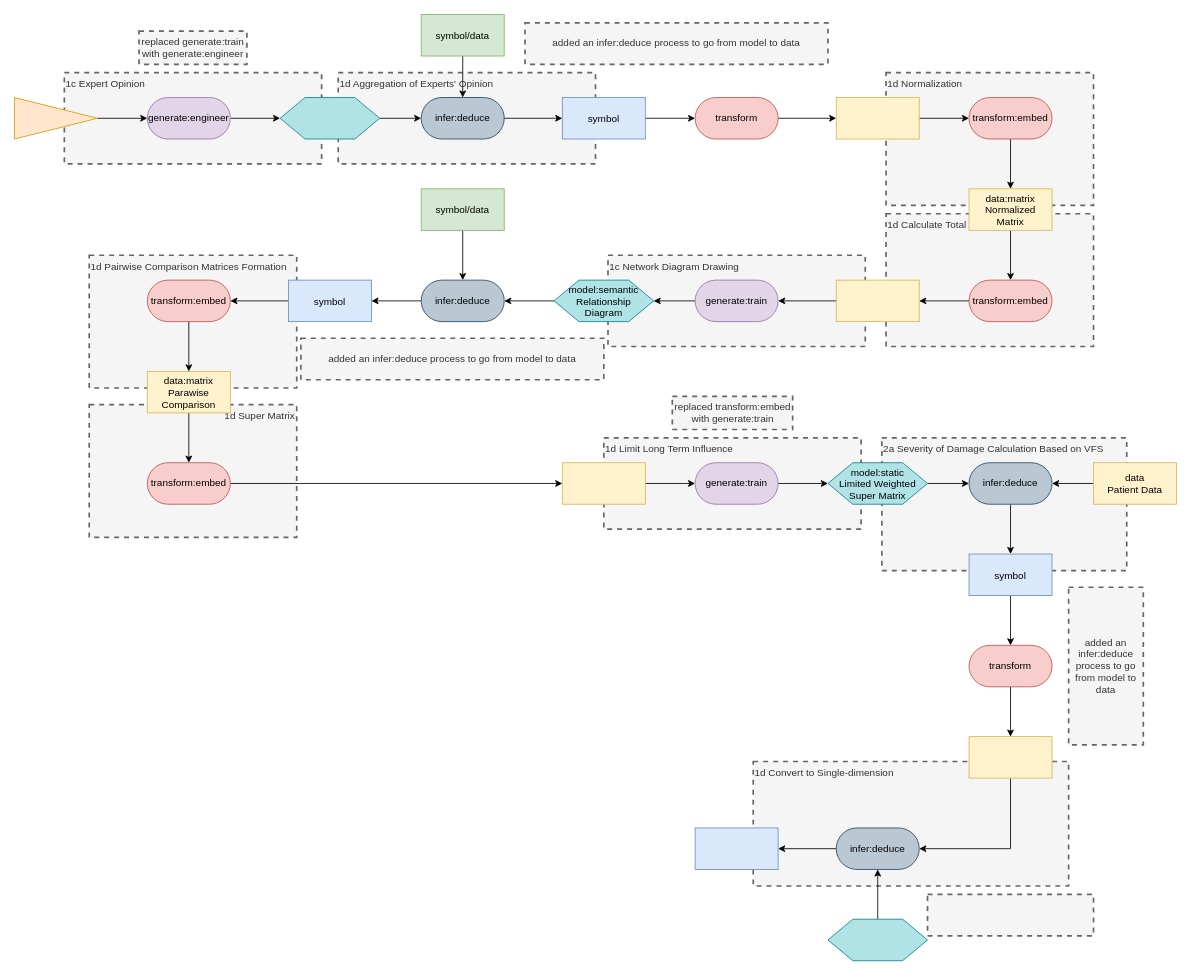
This 1191x975 diagram has some shape labels left out. The centre of each missing label's shape, as x and y in pixels:
"actor Diabetes Experts" belongs at pixel 56 118.
"data:matrix Single Matrix Clusters and sub-criteria" belongs at pixel 877 118.
"data:matrix Total Relationship Matrix" belongs at pixel 877 300.
"data:matrix Weighted Super Matrix" belongs at pixel 603 483.
"data:tensor Damage Severity" belongs at pixel 1010 757.
"model" belongs at pixel 877 939.
"model:semantic Relationships" belongs at pixel 329 118.
"replaced transform:embed with infer:deduce process to go from data to symbol" belongs at pixel 1010 914.
"symbol Damage Severity" belongs at pixel 736 848.
